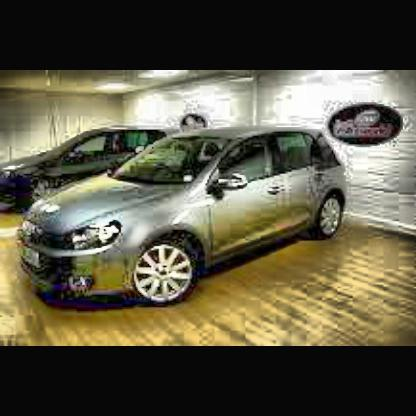Volkswagen Golf Hatchback 2012: (19, 127, 352, 311)
